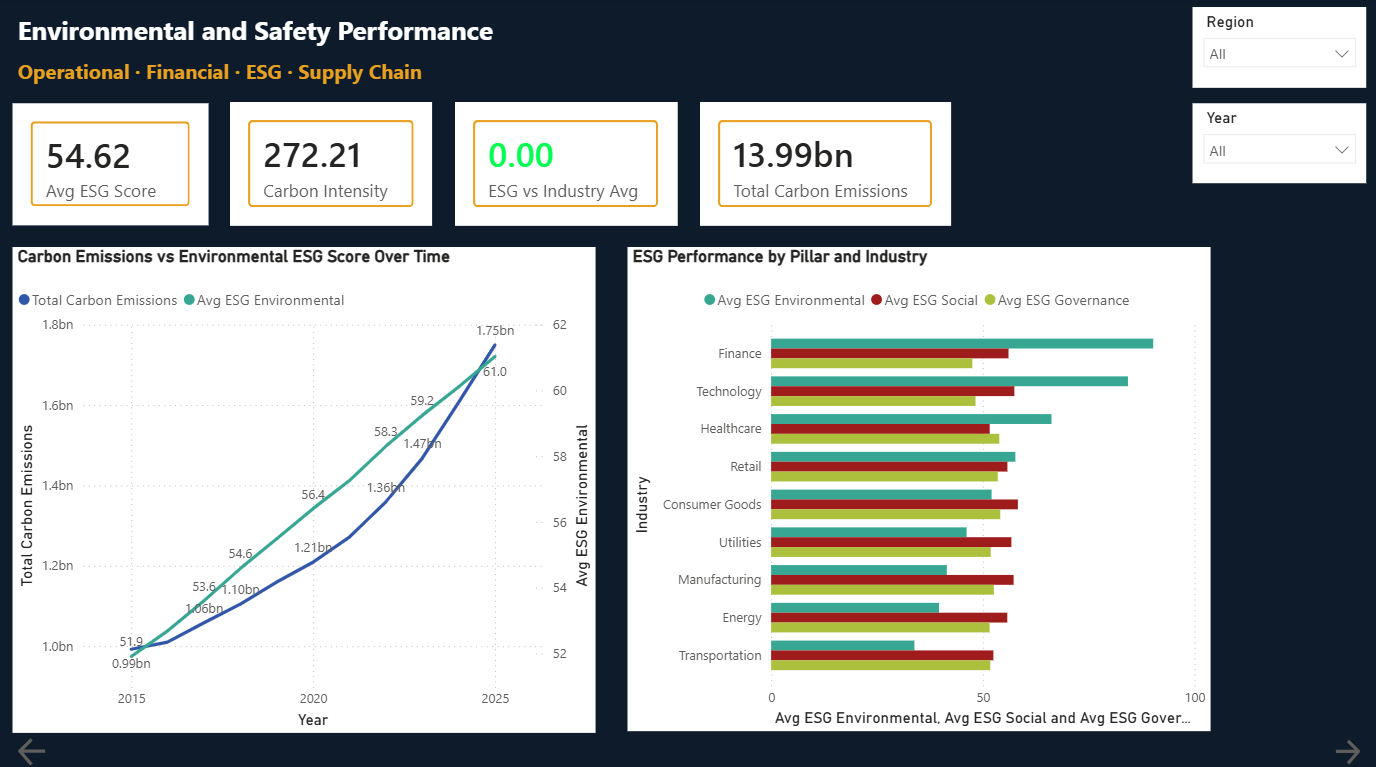

The page's visual inventory and layout, read from the dashboard file:
{"tool":"powerbi","page":{"name":"ESG & Safety Analytics (a)","canvas":[1280,720],"ordinal":1},"visuals":[{"type":"cardVisual","fields":{"Data":["ESG & Environmental Intelligence - B.Avg ESG Score"]},"box":[11.6,98.8,182.6,114],"z":0},{"type":"cardVisual","fields":{"Data":["ESG & Environmental Intelligence - B.Carbon Emissions per Revenue Unit"]},"box":[214,97.7,188.4,115.1],"z":1000},{"type":"cardVisual","fields":{"Data":["ESG & Environmental Intelligence - B.ESG vs Industry Avg"]},"box":[423.3,97.7,207,115.1],"z":2000},{"type":"cardVisual","fields":{"Data":["ESG & Environmental Intelligence - B.Total Carbon Emissions"]},"box":[651.2,97.7,233.7,115.1],"z":3000},{"type":"slicer","fields":{"Values":["Dim_Date.Year"]},"box":[1109.3,98.8,161.6,74.4],"z":4000},{"type":"slicer","fields":{"Values":["Dim_Region.Region"]},"box":[1109.3,9.3,161.6,75.6],"z":5000},{"type":"textbox","box":[11.6,9.3,782.6,47.7],"z":6000},{"type":"textbox","box":[11.6,51.2,424.4,46.5],"z":7000},{"type":"lineChart","title":"Carbon Emissions vs Environmental ESG Score Over Time","fields":{"Category":["Dim_Date.Year"],"Y":["ESG & Environmental Intelligence - B.Total Carbon Emissions"],"Y2":["ESG & Environmental Intelligence - B.Avg ESG Environmental"]},"box":[11.6,232.6,542.6,452.2],"z":8000},{"type":"clusteredBarChart","title":"ESG Performance by Pillar and Industry","fields":{"Category":["Dim_Industry.Industry"],"Y":["ESG & Environmental Intelligence - B.Avg ESG Environmental","ESG & Environmental Intelligence - B.Avg ESG Social","ESG & Environmental Intelligence - B.Avg ESG Governance"]},"box":[583.7,232.6,542.6,450.8],"z":9000},{"type":"actionButton","box":[1237.6,684.5,32,35.5],"z":9001},{"type":"actionButton","box":[12.8,684.9,67.4,34.9],"z":9002}]}

Visuals, with their boxes in screenshot pixels (x1, y1, x2, y2), scaled from the page's 1280x720 canvas onto the 1376x767 screenshot:
cardVisual - ESG & Environmental Intelligence - B.Avg ESG Score: bbox(12, 105, 209, 227)
cardVisual - ESG & Environmental Intelligence - B.Carbon Emissions per Revenue Unit: bbox(230, 104, 433, 227)
cardVisual - ESG & Environmental Intelligence - B.ESG vs Industry Avg: bbox(455, 104, 678, 227)
cardVisual - ESG & Environmental Intelligence - B.Total Carbon Emissions: bbox(700, 104, 951, 227)
slicer - Dim_Date.Year: bbox(1192, 105, 1366, 185)
slicer - Dim_Region.Region: bbox(1192, 10, 1366, 90)
textbox: bbox(12, 10, 854, 61)
textbox: bbox(12, 55, 469, 104)
"Carbon Emissions vs Environmental ESG Score Over Time" lineChart: bbox(12, 248, 596, 730)
"ESG Performance by Pillar and Industry" clusteredBarChart: bbox(627, 248, 1211, 728)
actionButton: bbox(1330, 729, 1365, 766)
actionButton: bbox(14, 730, 86, 766)
